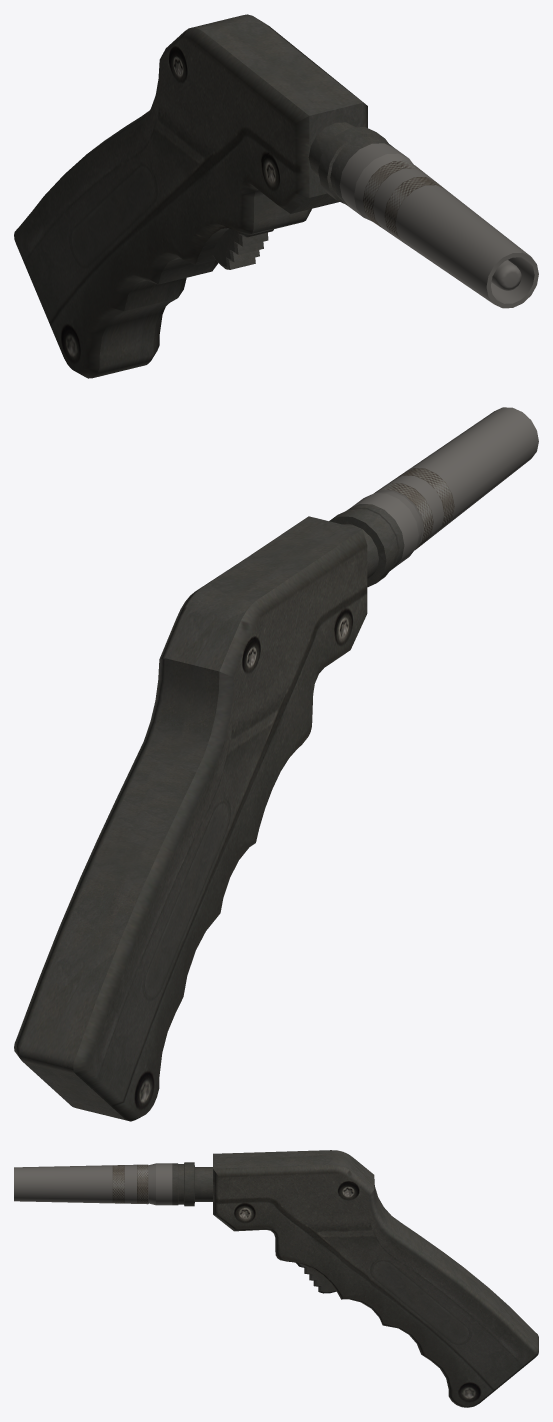
Rendered from Welding_Torch.fbx.
3 views of the same model, one above another, from view 1: azimuth 30°, elevation 25°; view 2: azimuth 150°, elevation 25°; view 3: azimuth 270°, elevation 25° (orthographic). The views are drawn at different scales.
Visible parts, largest first — view 1: Body, Trigger; view 2: Body; view 3: Body, Trigger.
Boxes of the visible parts, x1,y1,x2,y2 form: Body: [14, 14, 538, 378]; Trigger: [211, 229, 273, 269]; Body: [14, 407, 538, 1121]; Body: [14, 1150, 538, 1407]; Trigger: [296, 1263, 336, 1293].
Size of the model in its own units: 0.0394 by 0.2205 by 0.4318.
